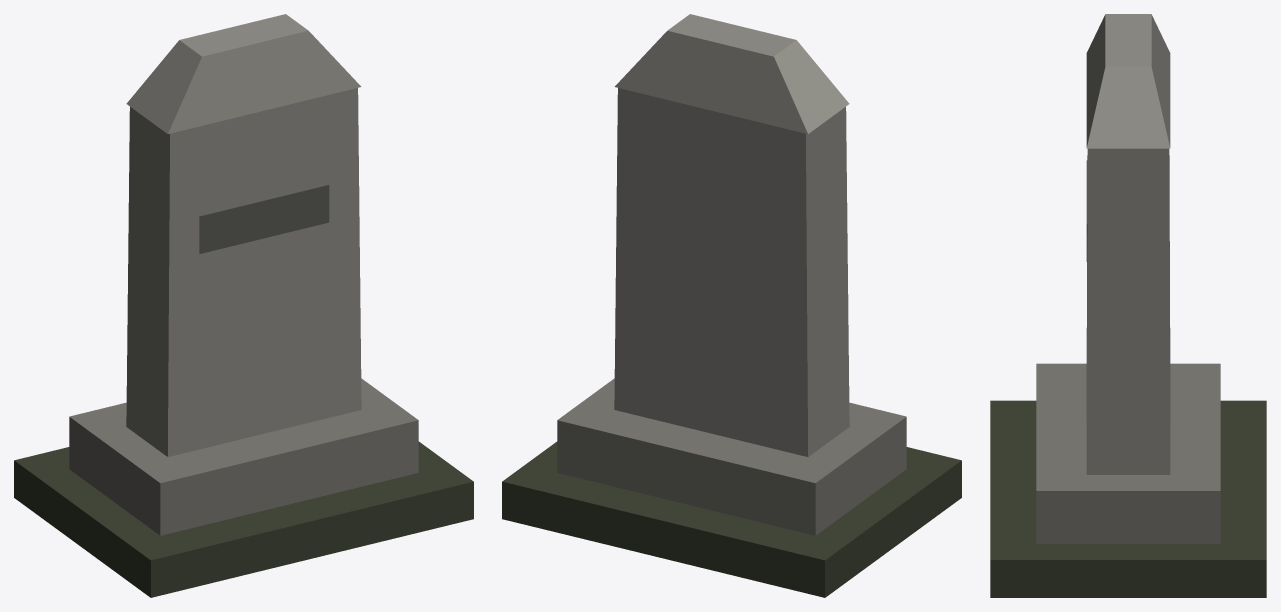
File: gravestone.glb
3 views of the same model, side by side, from view 1: azimuth 30°, elevation 25°; view 2: azimuth 150°, elevation 25°; view 3: azimuth 270°, elevation 25° (orthographic).
Visible parts, largest first — view 1: gravestone; view 2: gravestone; view 3: gravestone.
Boxes of the visible parts, x1,y1,x2,y2 form: gravestone: [14, 14, 473, 597]; gravestone: [502, 14, 961, 597]; gravestone: [990, 14, 1266, 597].
Size of the model in its own units: 0.9 by 1.26 by 0.66.
Materials: 1 (1 with a texture image).
